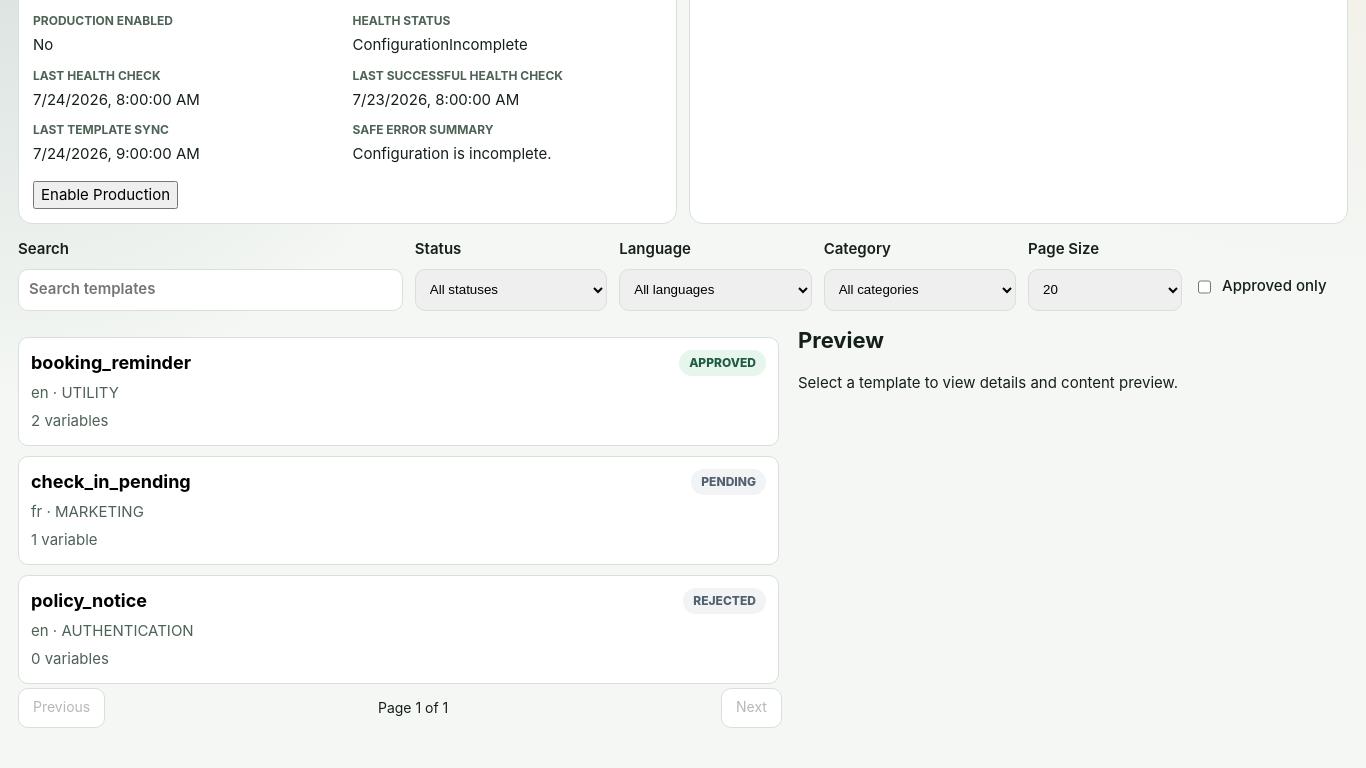
Test: WhatsAppSettingsPage › renders template list and preview
(page scrolled)
Expected: the heading "booking_reminder" is shown, [31,351,191,374]
Step 1. Click the list item "booking_reminder" → (111, 362), box [18,337,779,446]
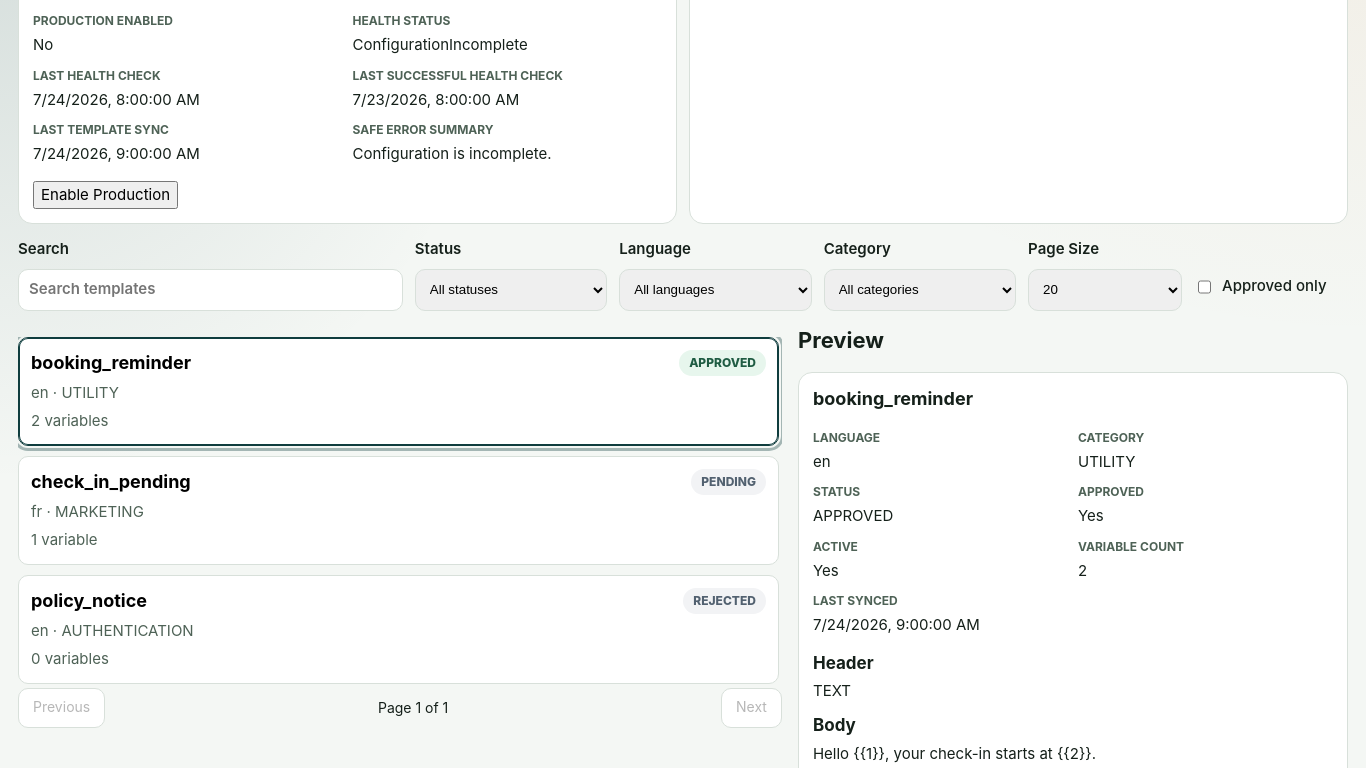
Expected: the heading "Preview" is shown, [798,327,884,353]
Now the text "Hello {{1}}, your check-in starts at {{2}}." is shown, box [813,744,1096,762]
